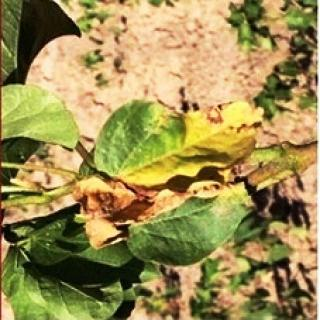wilt: (66, 94, 300, 252)
